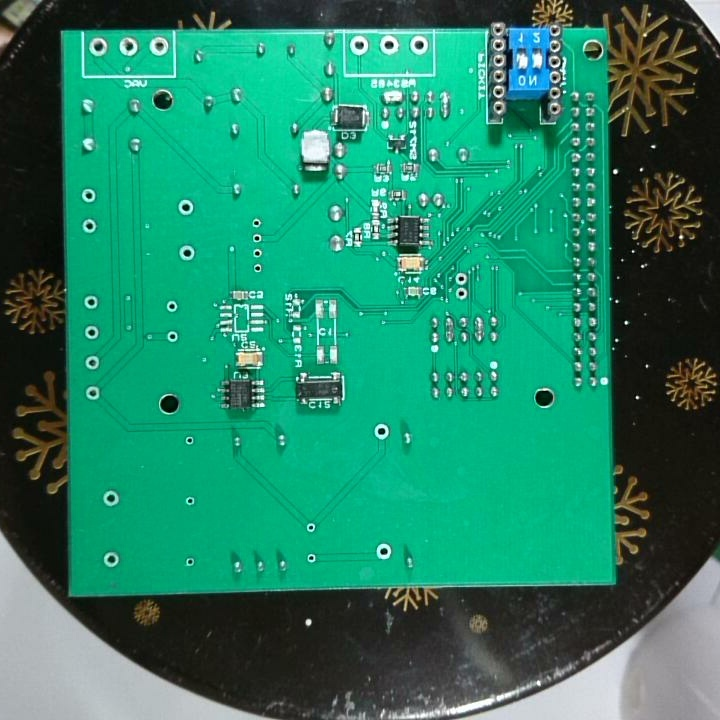F: (377, 32, 402, 58), (348, 34, 371, 58), (86, 35, 108, 60), (408, 33, 430, 58), (175, 243, 199, 265), (117, 35, 139, 58), (99, 488, 122, 509), (147, 35, 168, 58), (100, 549, 122, 570), (174, 198, 197, 218), (374, 539, 393, 562), (80, 215, 99, 237), (79, 184, 97, 206), (82, 353, 102, 372), (82, 292, 100, 313), (373, 421, 391, 441), (85, 383, 102, 404), (82, 322, 99, 343), (248, 258, 267, 276), (164, 326, 180, 346), (182, 492, 199, 509), (249, 243, 266, 260), (163, 298, 179, 316), (454, 286, 471, 302), (249, 216, 265, 232), (303, 520, 318, 537), (182, 554, 197, 571), (249, 231, 266, 246), (454, 270, 469, 286), (182, 432, 196, 449), (305, 550, 318, 567)
P: (379, 88, 408, 106), (437, 89, 453, 121), (471, 313, 485, 346), (442, 313, 456, 345)
